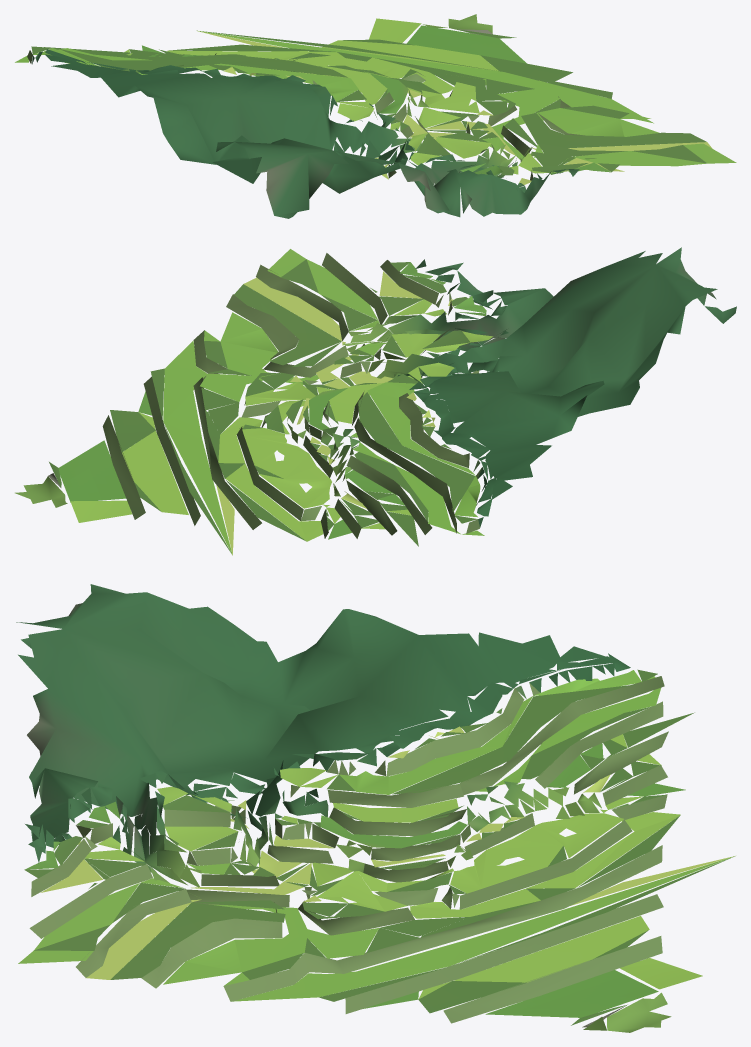
File: payo_land_xm3_y7_lod2.glb
3 renders of one model, top to bottom at view 1: azimuth 30°, elevation 25°; view 2: azimuth 150°, elevation 25°; view 3: azimuth 270°, elevation 25°, orthographic. The views are drawn at different scales.
Parts seen in each view (by area): view 1: payo_land_xm3_y7; view 2: payo_land_xm3_y7; view 3: payo_land_xm3_y7.
Part boxes in pixels (x1,y1,x2,y2): payo_land_xm3_y7: (15,14,736,218); payo_land_xm3_y7: (15,247,736,555); payo_land_xm3_y7: (16,584,735,1032).
Size of the model in its own units: 267 by 80.82 by 294.
